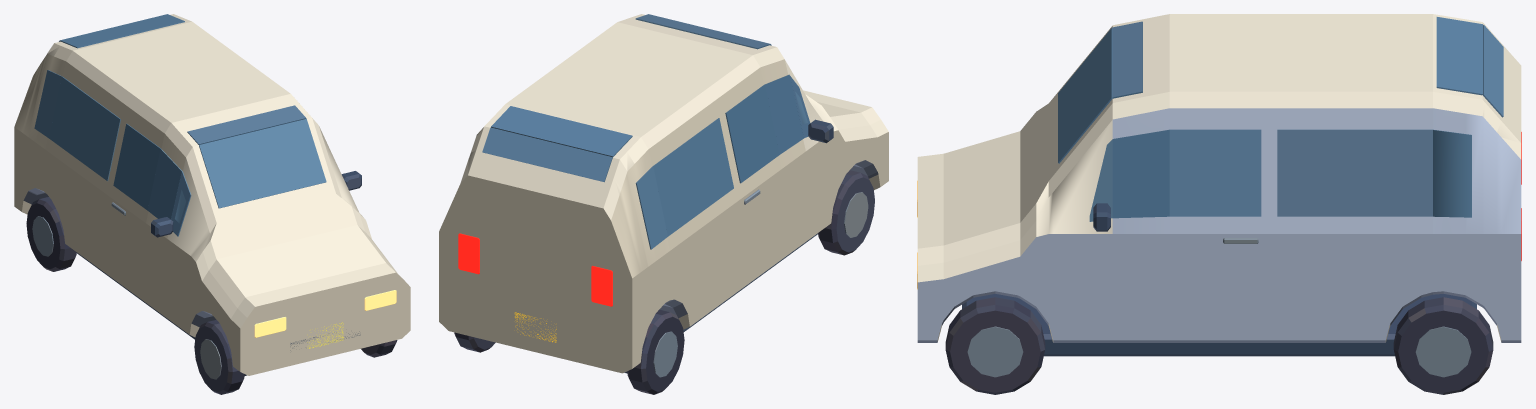
File: HK_Kei_Tall.lod.glb
3 renders of one model, left to right at view 1: azimuth 30°, elevation 25°; view 2: azimuth 150°, elevation 25°; view 3: azimuth 270°, elevation 25°, orthographic. The views are drawn at different scales.
Parts seen in each view (by area): view 1: HK_Kei_Tall; view 2: HK_Kei_Tall; view 3: HK_Kei_Tall.
Boxes of the visible parts, left/top/right/bottom form: HK_Kei_Tall: left=14, top=14, right=410, bottom=394; HK_Kei_Tall: left=439, top=14, right=888, bottom=394; HK_Kei_Tall: left=917, top=14, right=1521, bottom=394.
Size of the model in its own units: 1.79 by 1.8 by 3.4.
